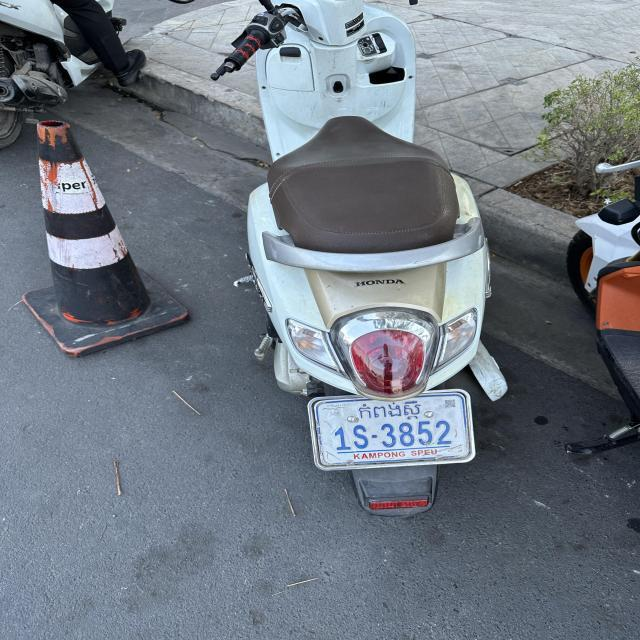Kampong_Speu: (355, 399, 423, 422)
